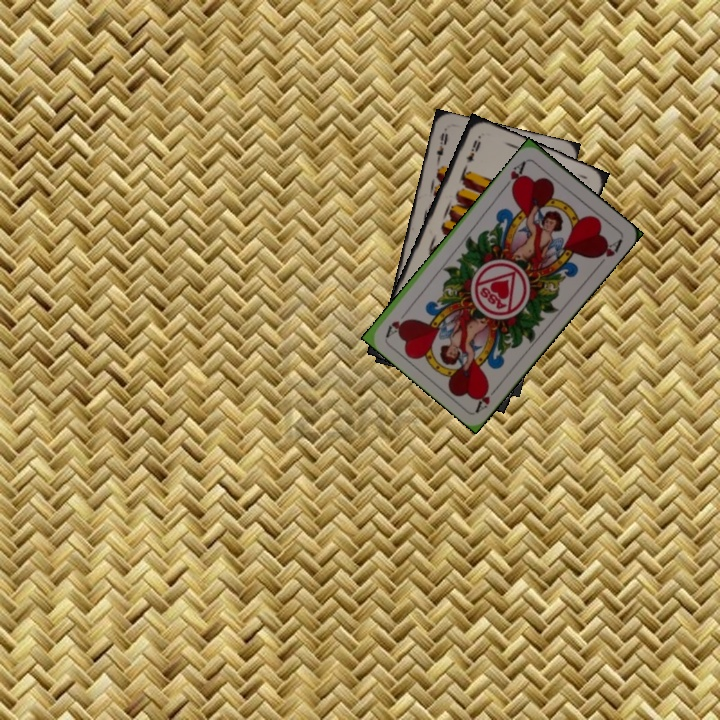E9: (432, 129, 450, 166), (462, 136, 483, 165)
HA: (500, 156, 530, 194), (472, 380, 503, 414)
